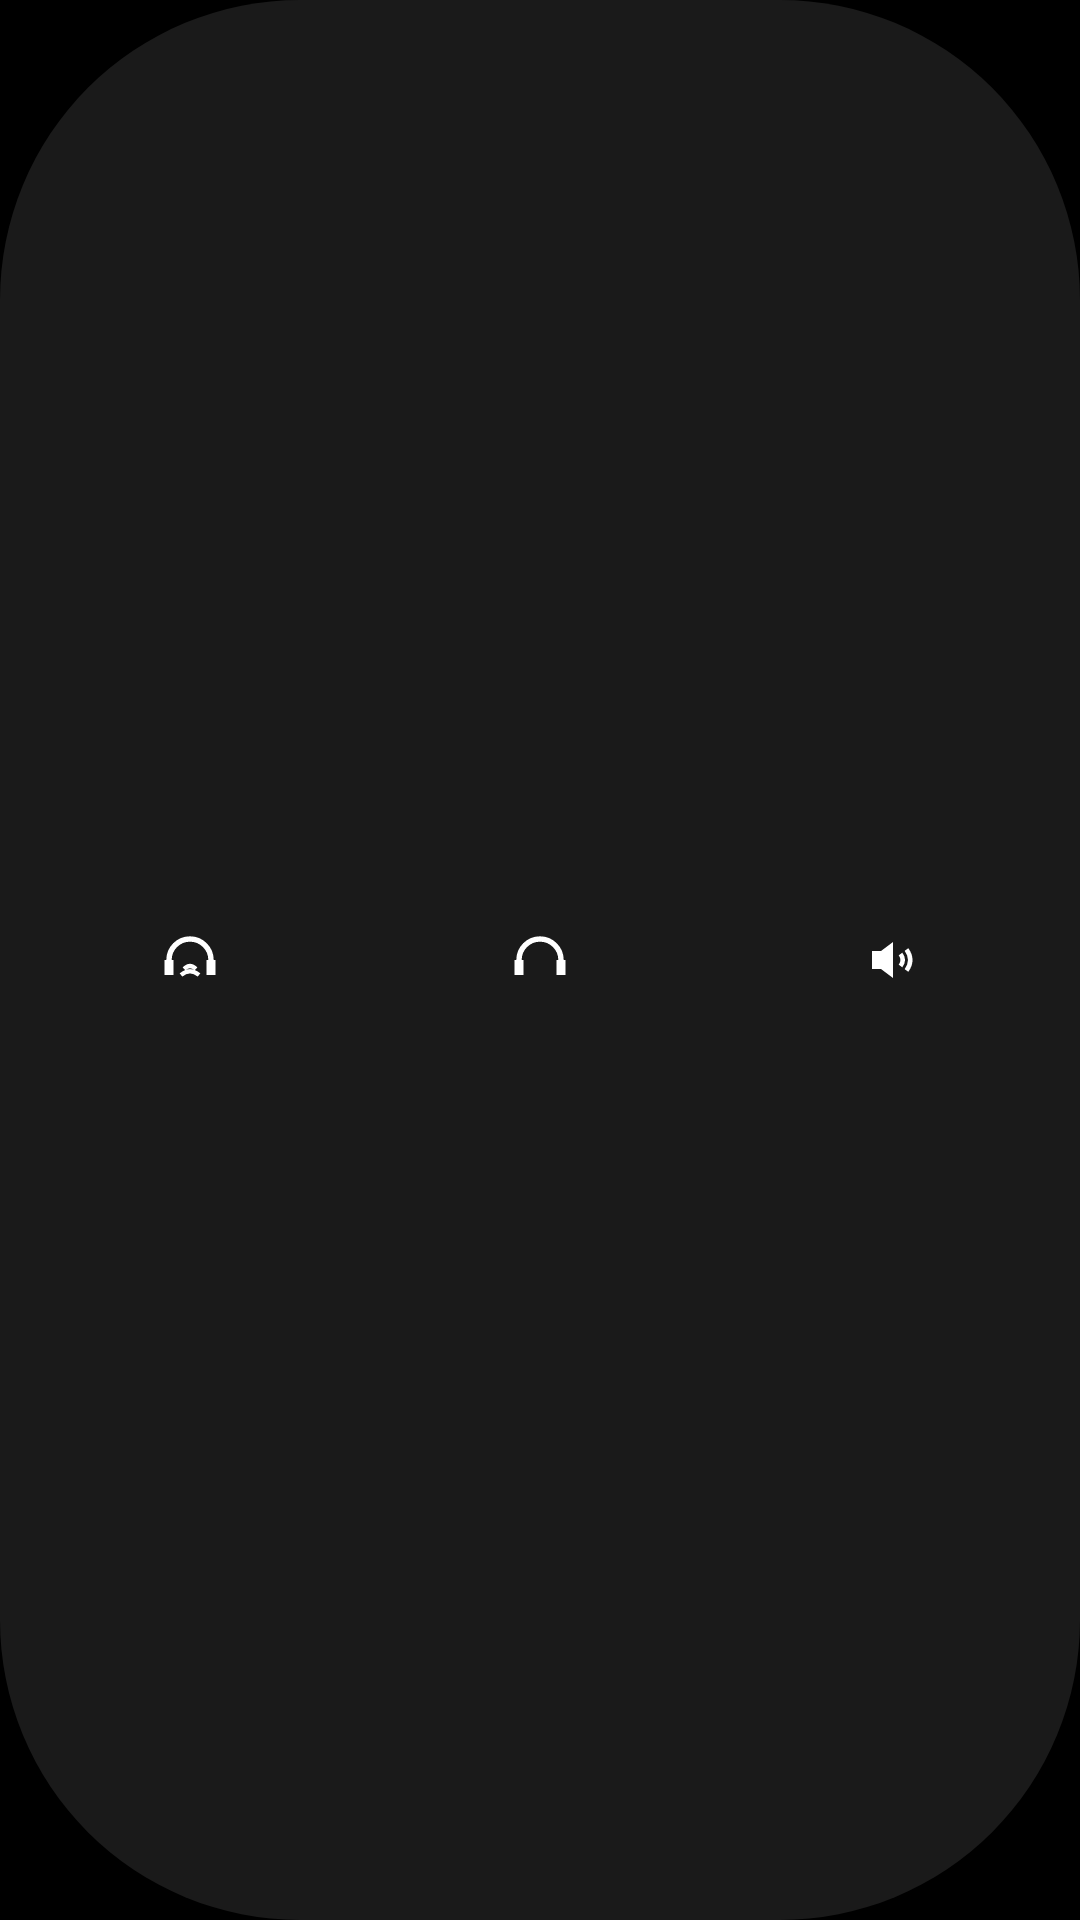

Where to tap for icons on this 1080w x 1920h app screen, as (x=x, y=y):
anc: (x=190, y=956)
